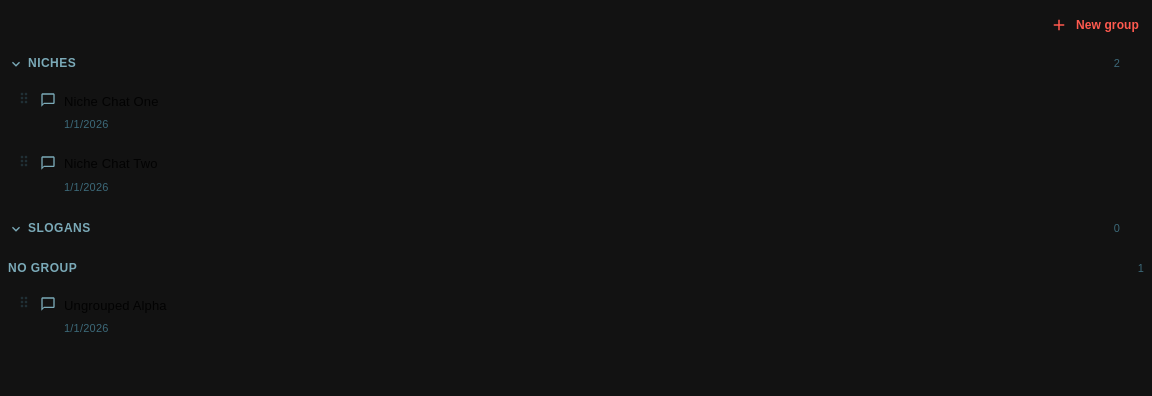
Test case: RecentChats panel › clicking "+ New group" opens an inline TextField
Click the button "New group" at point(1095, 25), box [1047,4,1144,46]
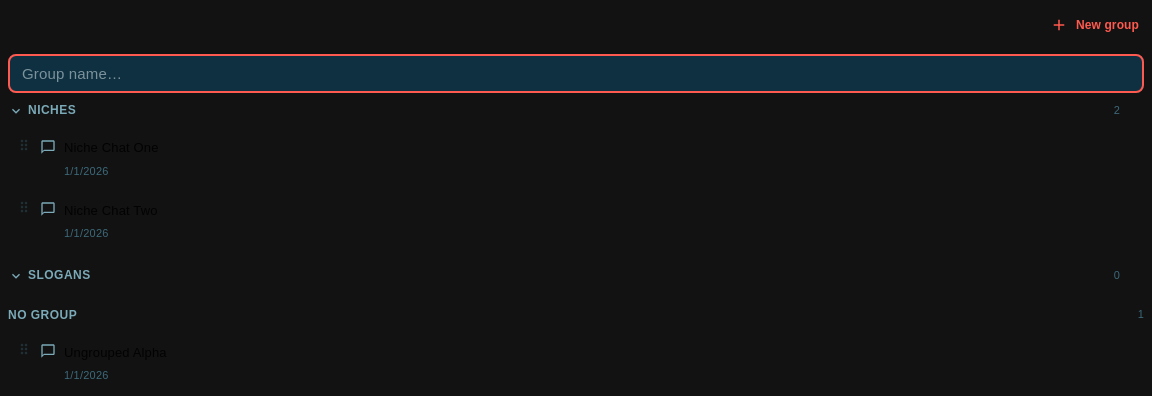
Now the field named "New group" is shown, box [8,54,1144,93]
